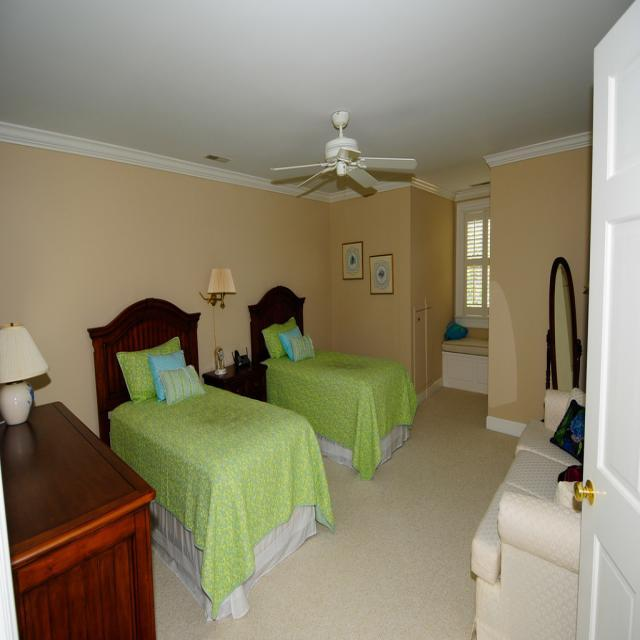fan_off: (269, 112, 417, 198)
